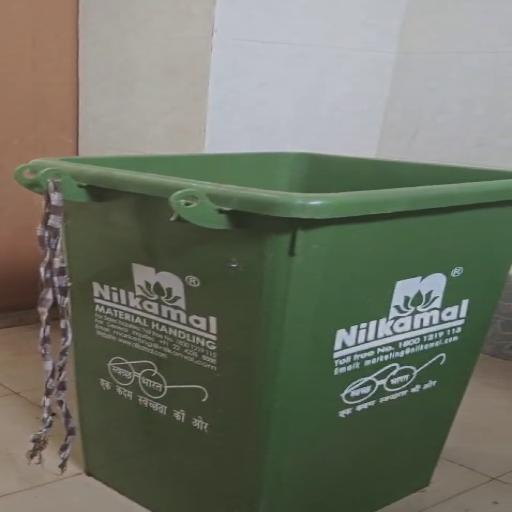Nilkamal-dustbin-detection: (17, 154, 511, 511)
